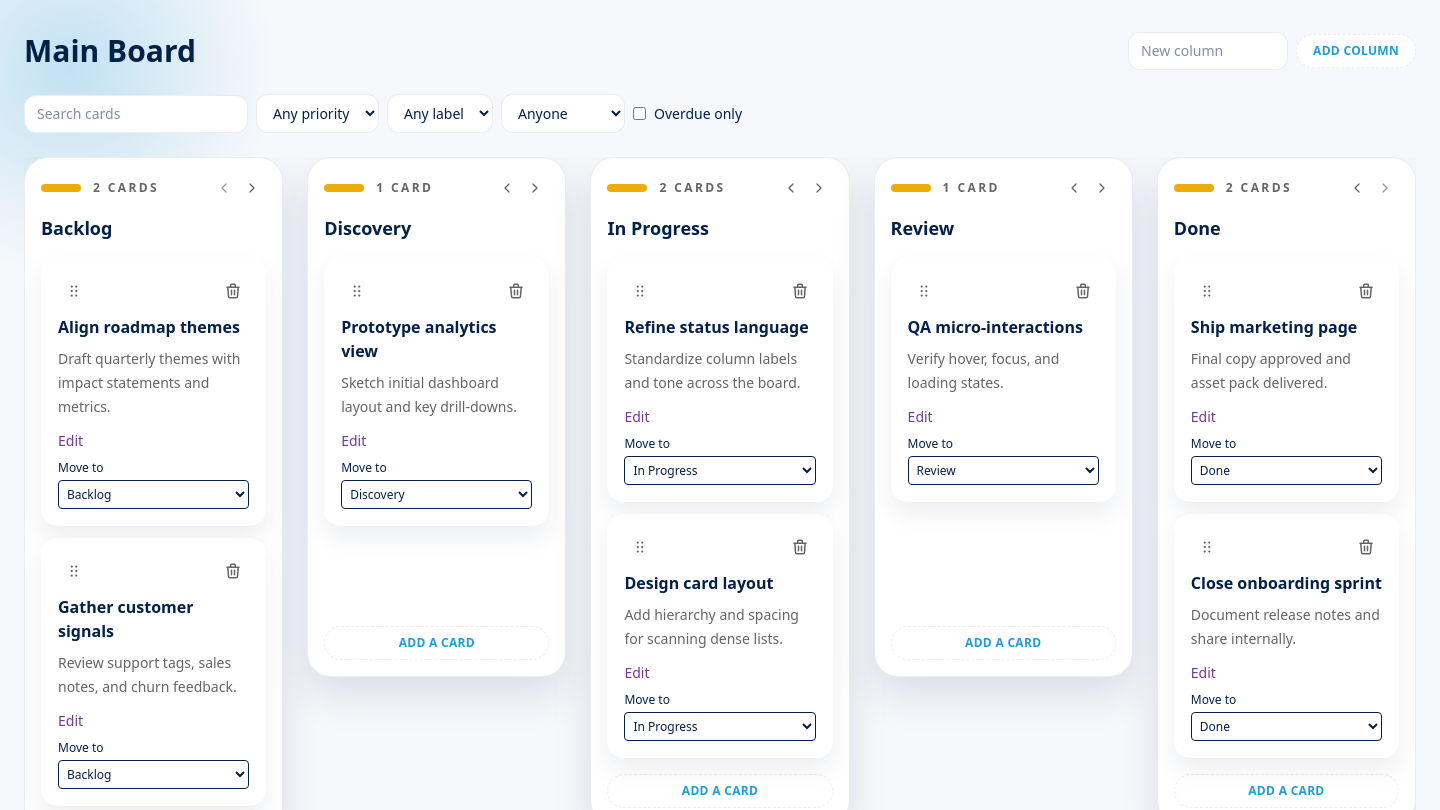
it: requires reload after a revision conflict rather than overwriting it
Expected: the field named "Board name" is shown, [24, 33, 1116, 69]
Select "Done" in the dropdown named "Move Align roadmap themes to column" at (154, 494), box [58, 480, 249, 509]
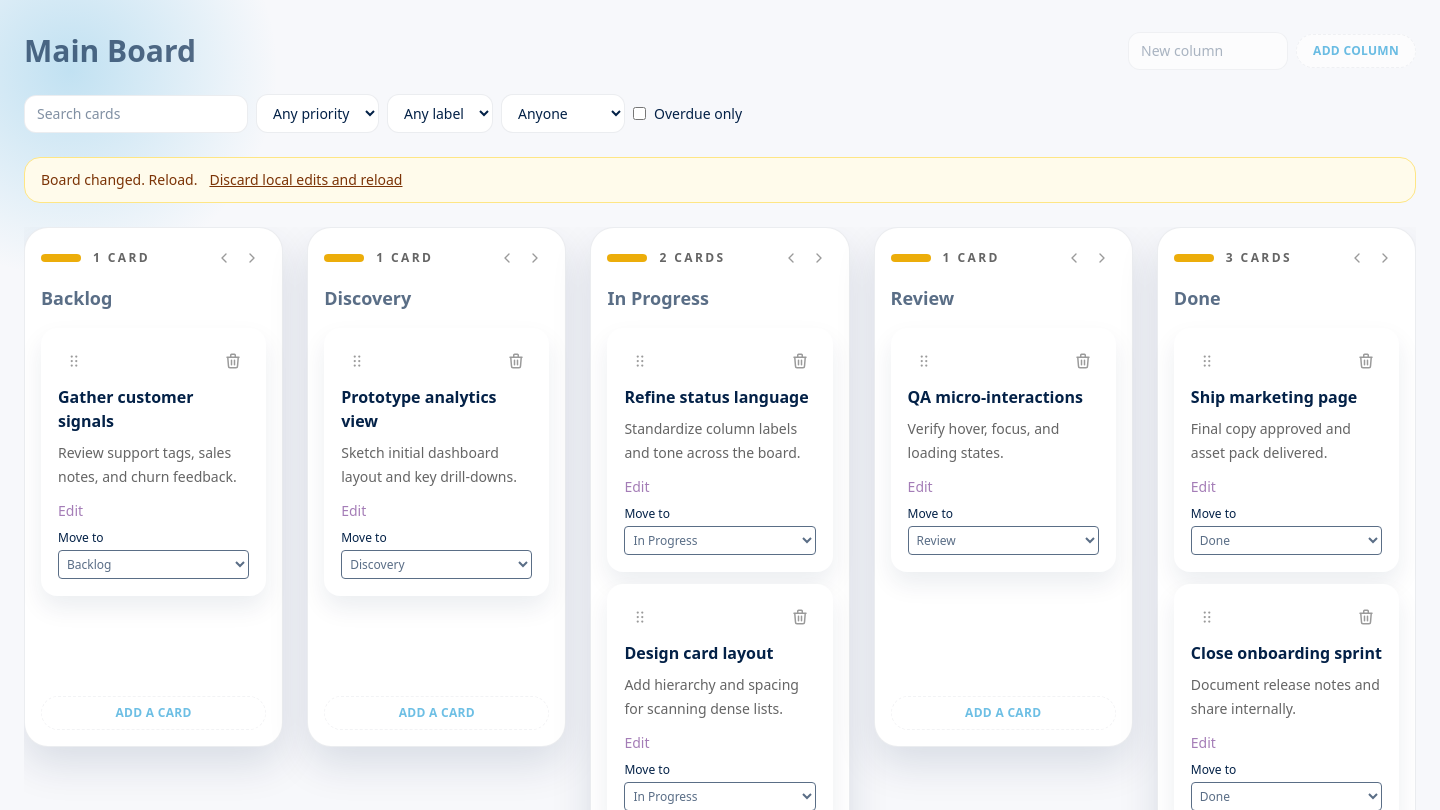
Result: the message "Board changed. Reload. Discard local edits and reload" is shown at [24, 157, 1416, 203]
Click the button "Discard local edits and reload" at (306, 180), box [210, 170, 402, 190]
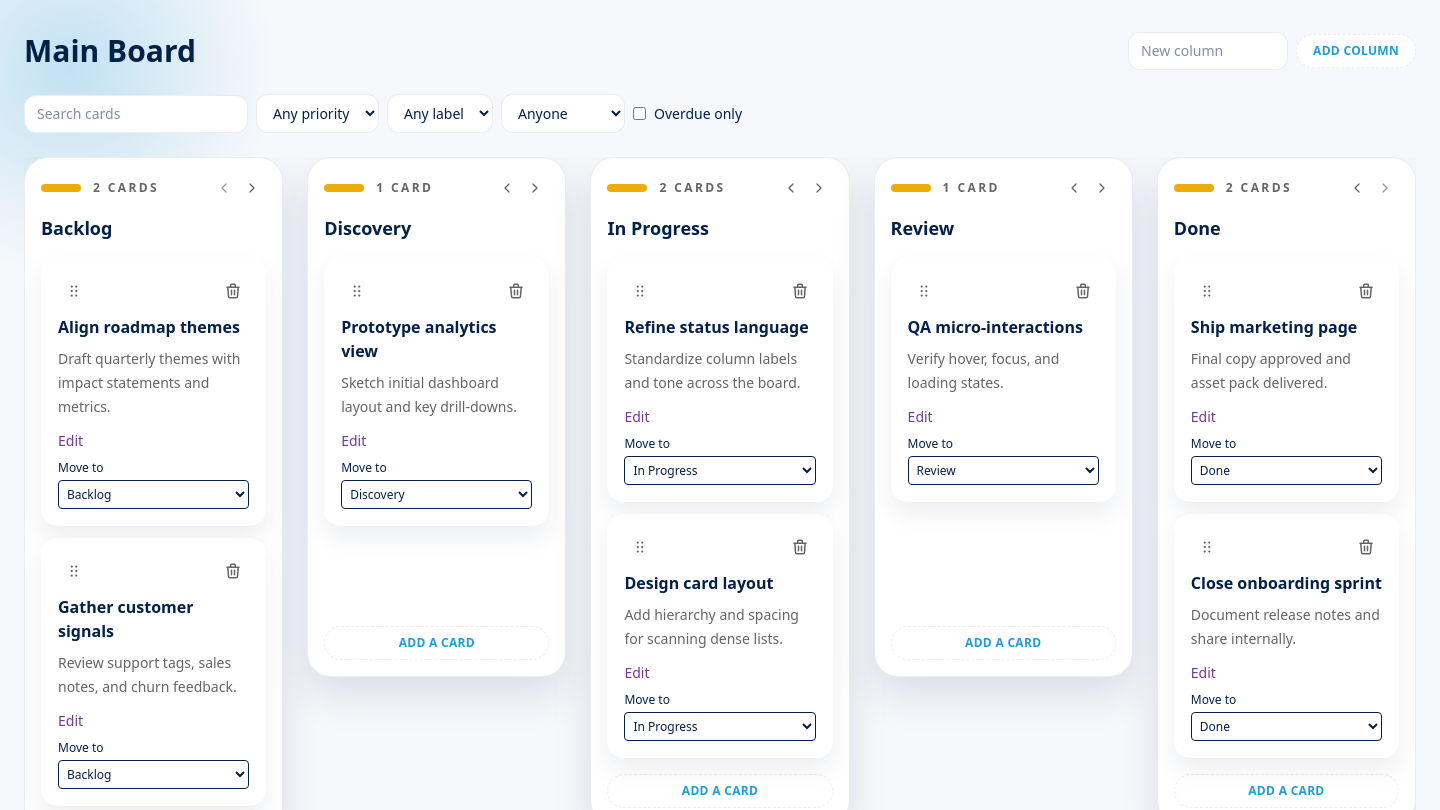
Result: the dropdown named "Move Align roadmap themes to column" shows "Backlog" at [58, 480, 249, 509]
